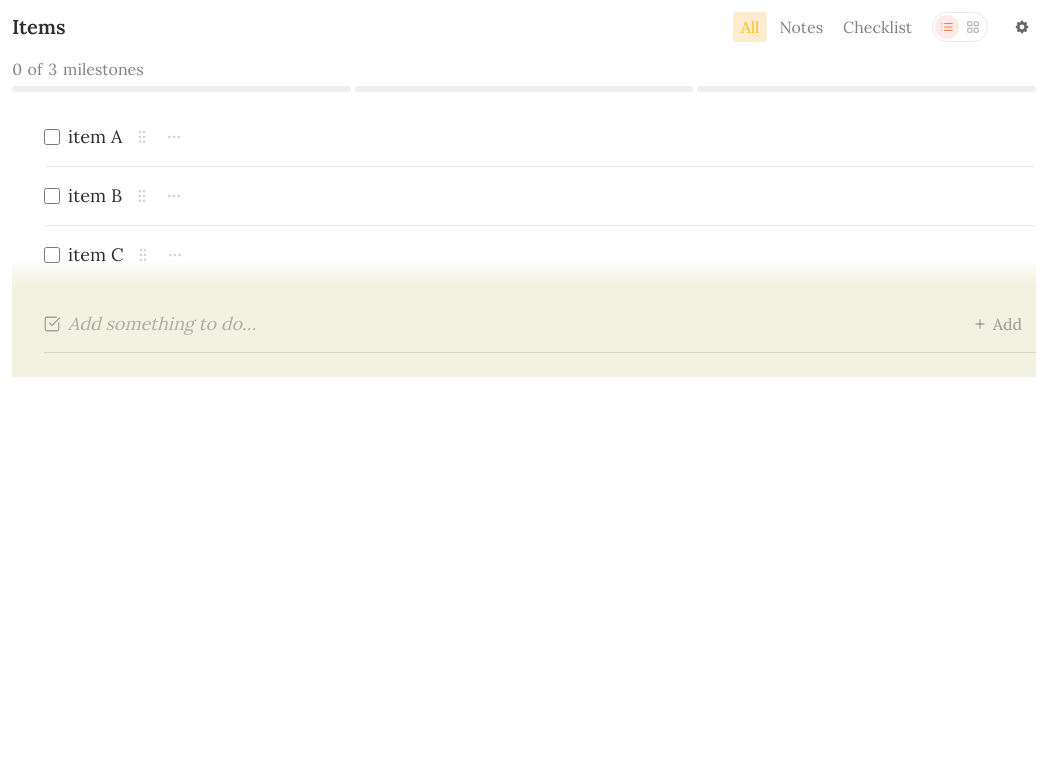
Scenario: Todo reorder from the actions panel › should round-trip an item back where it started, and offer no move off an end
Check: the text "item A" is shown, box [68,124,122,150]
Click the button named "Actions for item A": (174, 137) [162,125,186,149]
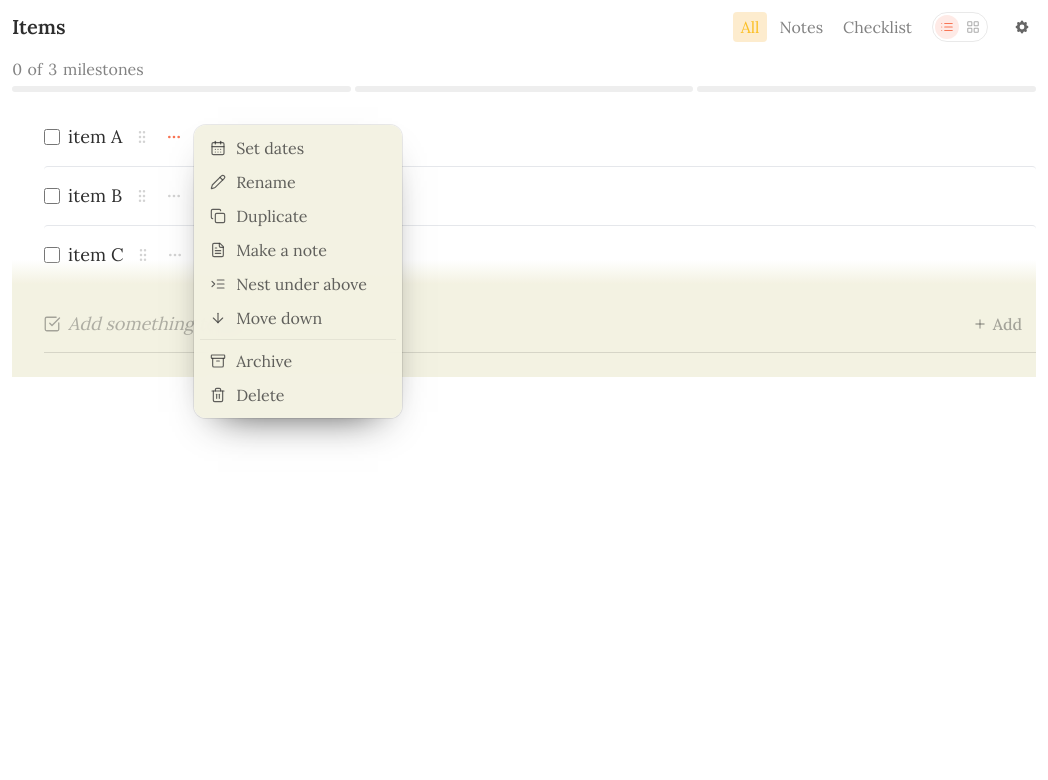
Click the menu item "Move down": (298, 318) [200,301,396,335]
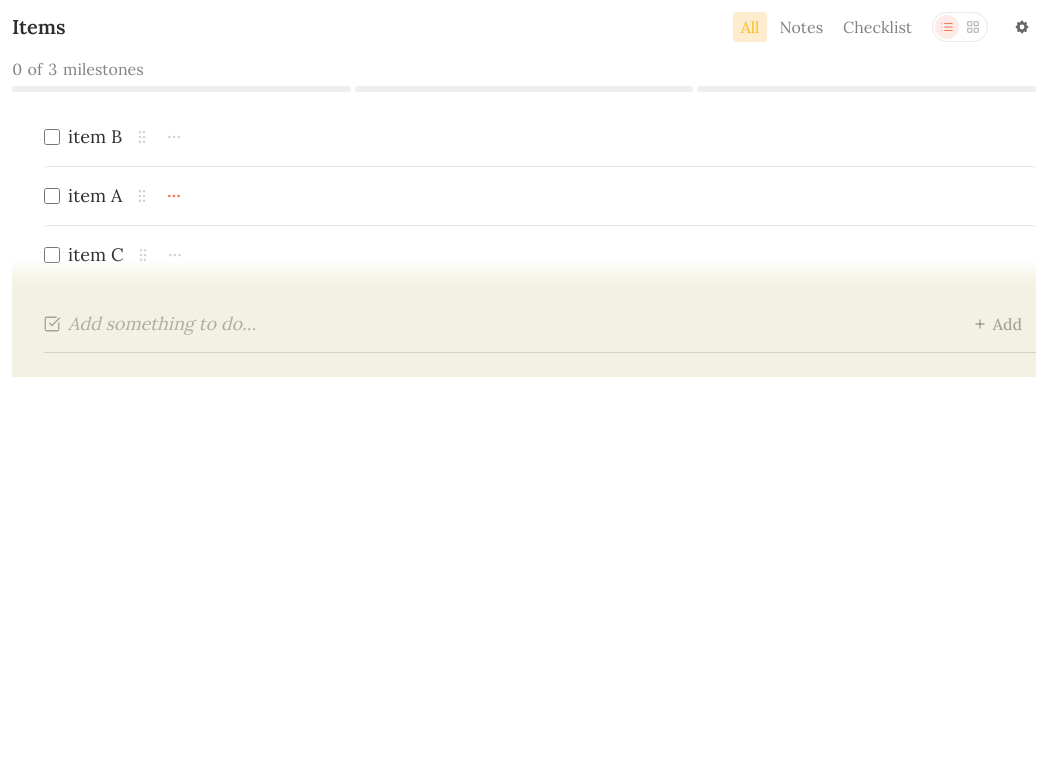
Click the button named "Actions for item A": (174, 196) [162,184,186,208]
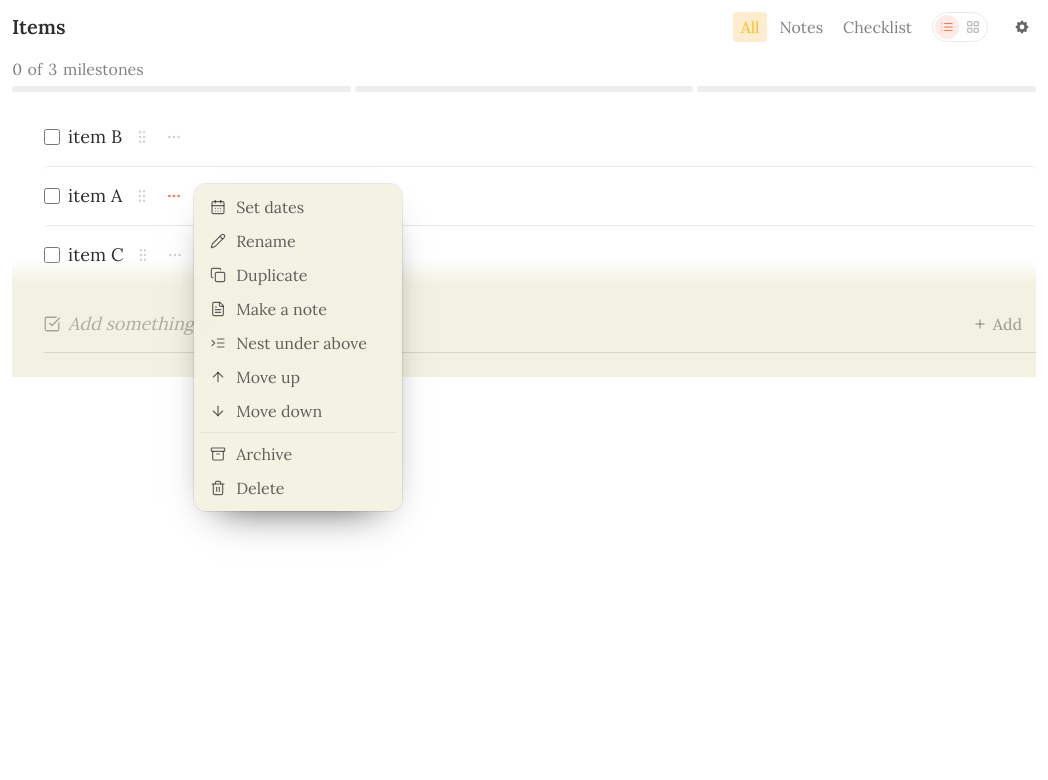
Click the menu item "Move up": (298, 377) [200,360,396,394]
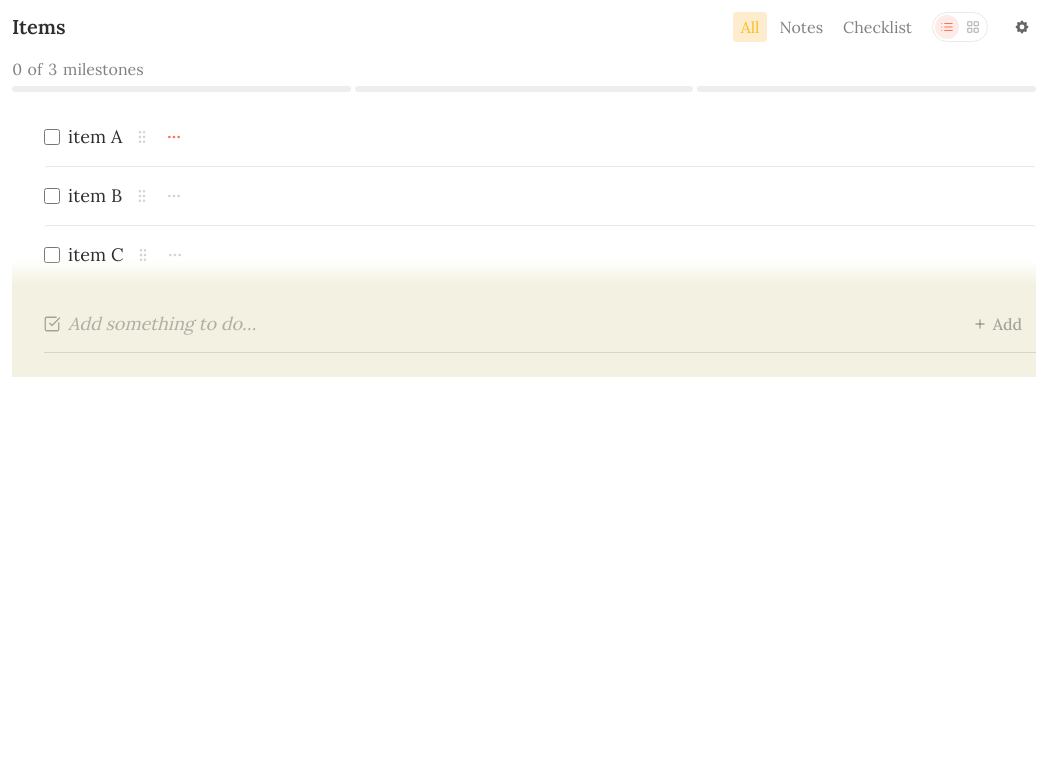
Click the button named "Actions for item A": (174, 137) [162,125,186,149]
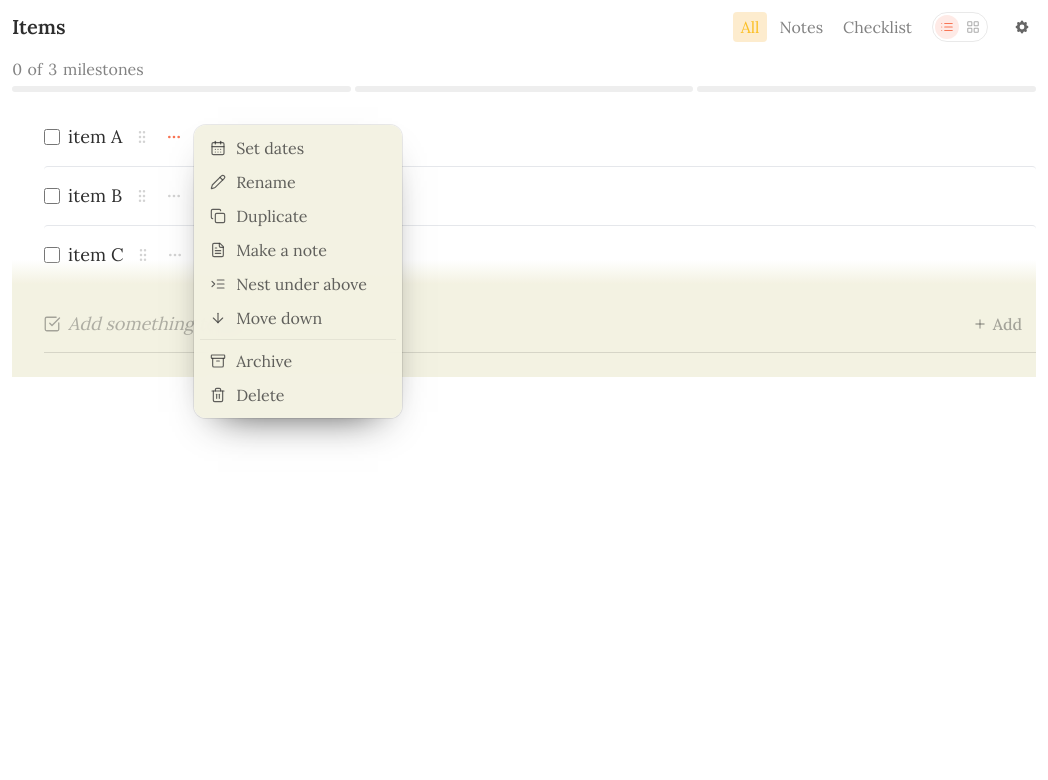
Check: the menu item "Move up" is not shown
Check: the menu item "Move down" is shown, box [200,301,396,335]
